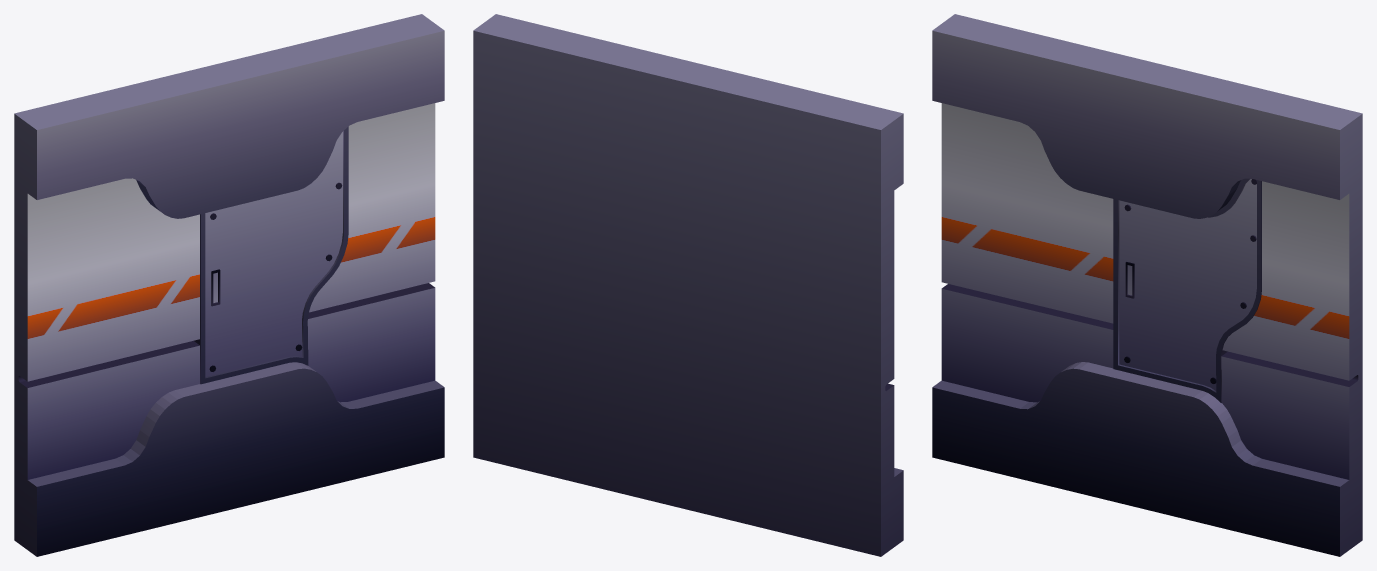
The model's file is Wall_ClosedPanel.fbx.
3 views of the same model, side by side, from view 1: azimuth 30°, elevation 25°; view 2: azimuth 150°, elevation 25°; view 3: azimuth 330°, elevation 25° (orthographic).
Visible parts, largest first — view 1: TEXTURED_WT_ClosedPanel; view 2: TEXTURED_WT_ClosedPanel; view 3: TEXTURED_WT_ClosedPanel.
Boxes of the visible parts, x1,y1,x2,y2 form: TEXTURED_WT_ClosedPanel: [14, 14, 444, 556]; TEXTURED_WT_ClosedPanel: [473, 14, 903, 556]; TEXTURED_WT_ClosedPanel: [932, 14, 1362, 556].
Size of the model in its own units: 2 by 2 by 0.1934.
1 material, 1 textured.
